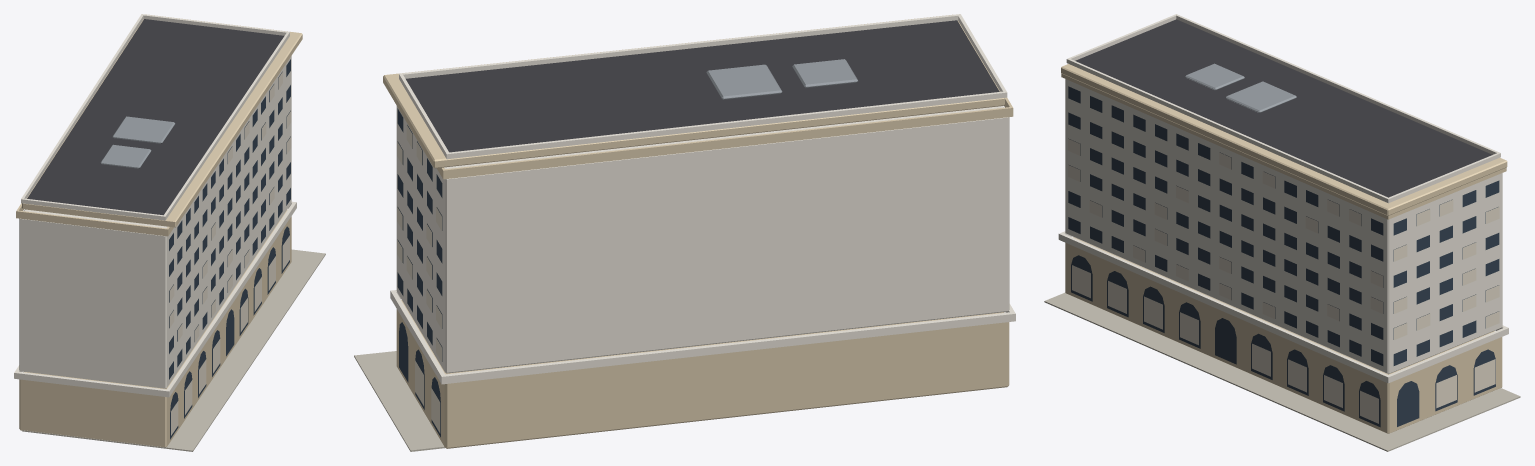
Rendered from matson-building-annex.glb.
3 views of the same model, side by side, from view 1: azimuth 30°, elevation 25°; view 2: azimuth 150°, elevation 25°; view 3: azimuth 270°, elevation 25° (orthographic). The views are drawn at different scales.
Visible parts, largest first — view 1: matson-building-annex_body, matson-building-annex_night_glow; view 2: matson-building-annex_body, matson-building-annex_night_glow; view 3: matson-building-annex_body, matson-building-annex_night_glow.
Part boxes in pixels (<box>): matson-building-annex_body: <box>14,14,325,451</box>; matson-building-annex_night_glow: <box>169,72,291,435</box>; matson-building-annex_body: <box>354,14,1015,451</box>; matson-building-annex_night_glow: <box>397,125,441,433</box>; matson-building-annex_body: <box>1044,14,1520,451</box>; matson-building-annex_night_glow: <box>1068,139,1499,423</box>.
Size of the model in its own units: 44 by 23.4 by 42.95.
